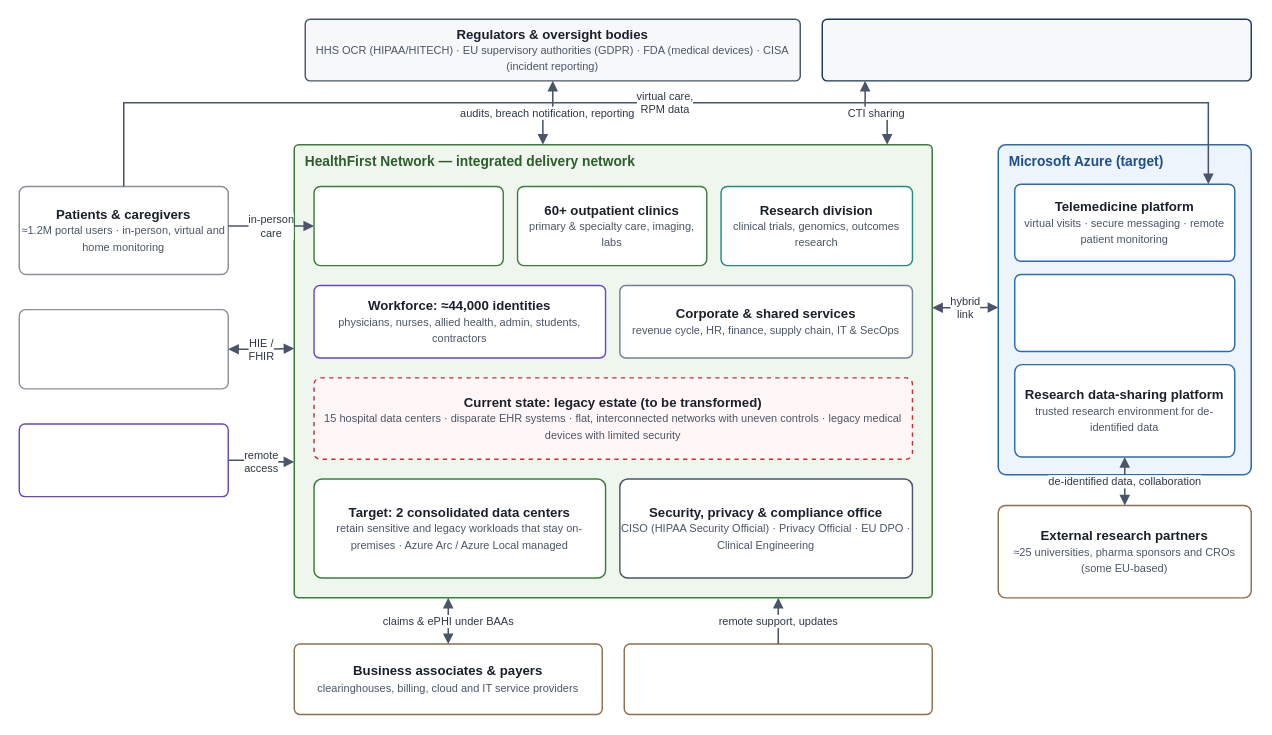
Image size: 1272x735. Some labels were removed from this diagram. The shapes that lost their labels are listed below. From the top down, each one's box as (x1, y1, x2, y2) in pixels, then its label:
(821, 18, 1251, 81): Threat-intelligence community Health-ISAC · HHS HC3 · CISA / FBI advisories
(313, 185, 503, 266): 15 hospitals ≈4,200 beds · ≈48,000 connected medical devices
(1014, 273, 1235, 352): Centralized EHR platform one patient record across all facilities
(18, 308, 228, 389): Referring & affiliated providers record exchange via HIE / FHIR APIs
(18, 423, 228, 497): Remote & on-call clinicians home, travel and partner sites
(623, 643, 932, 715): Medical device manufacturers remote support, patches, SBOM / MDS2 disclosures
